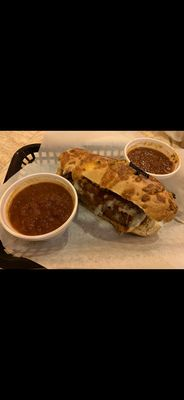salad: (2, 143, 42, 185)
sushi: (0, 172, 78, 244), (124, 138, 182, 179)
